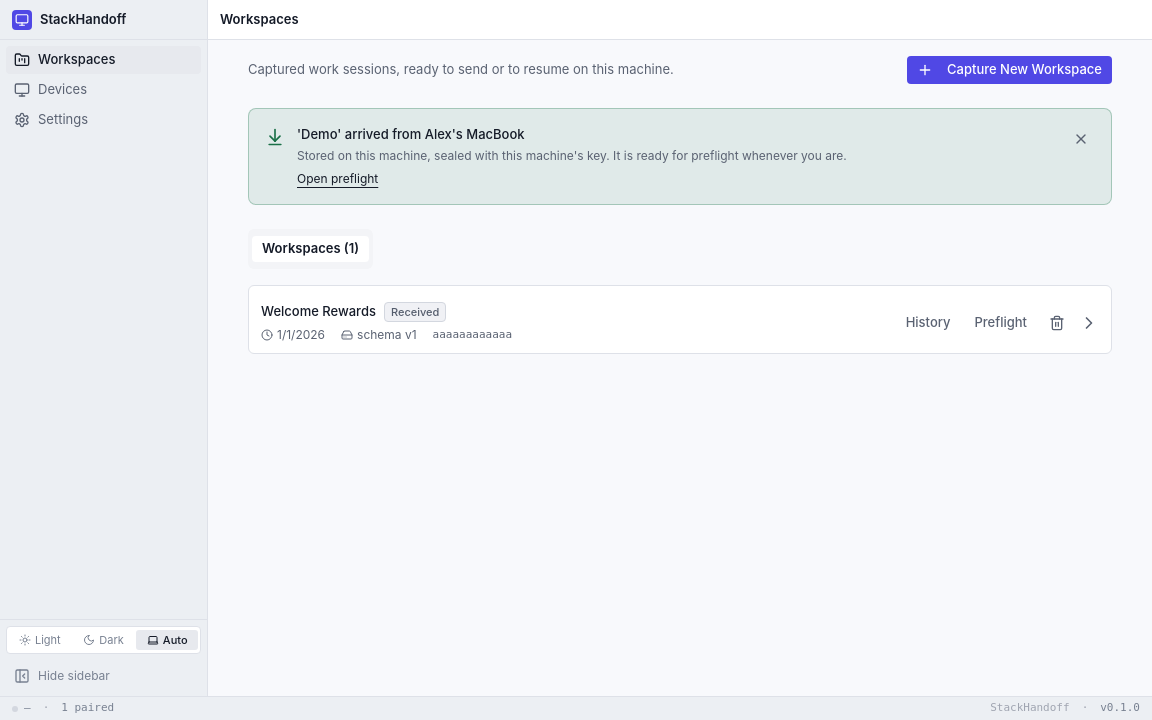
Test: acting on a successful arrival › opens preflight for the workspace that arrived
The image size is (1152, 720).
Click the button "Open preflight": (338, 178) [297, 170, 378, 186]
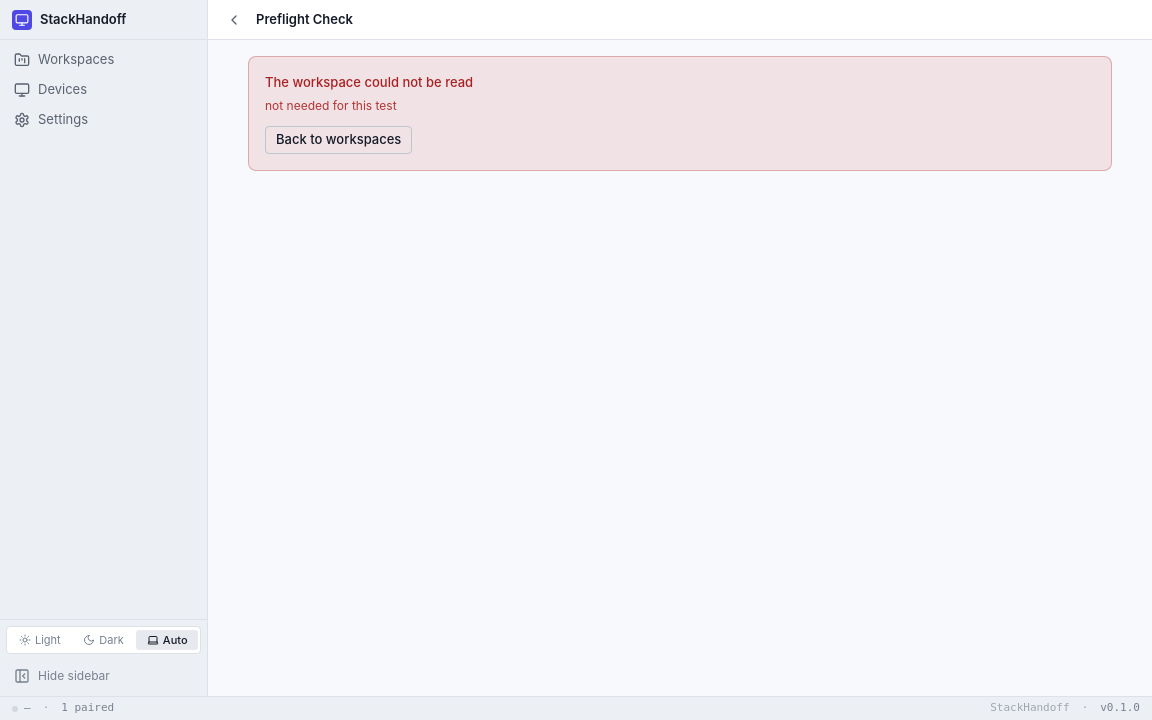
Now the heading "The workspace could not be read" is shown, box [265, 74, 473, 90]
